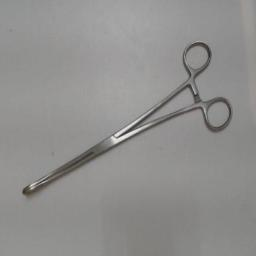Sponge Forceps: (16, 34, 234, 202)
